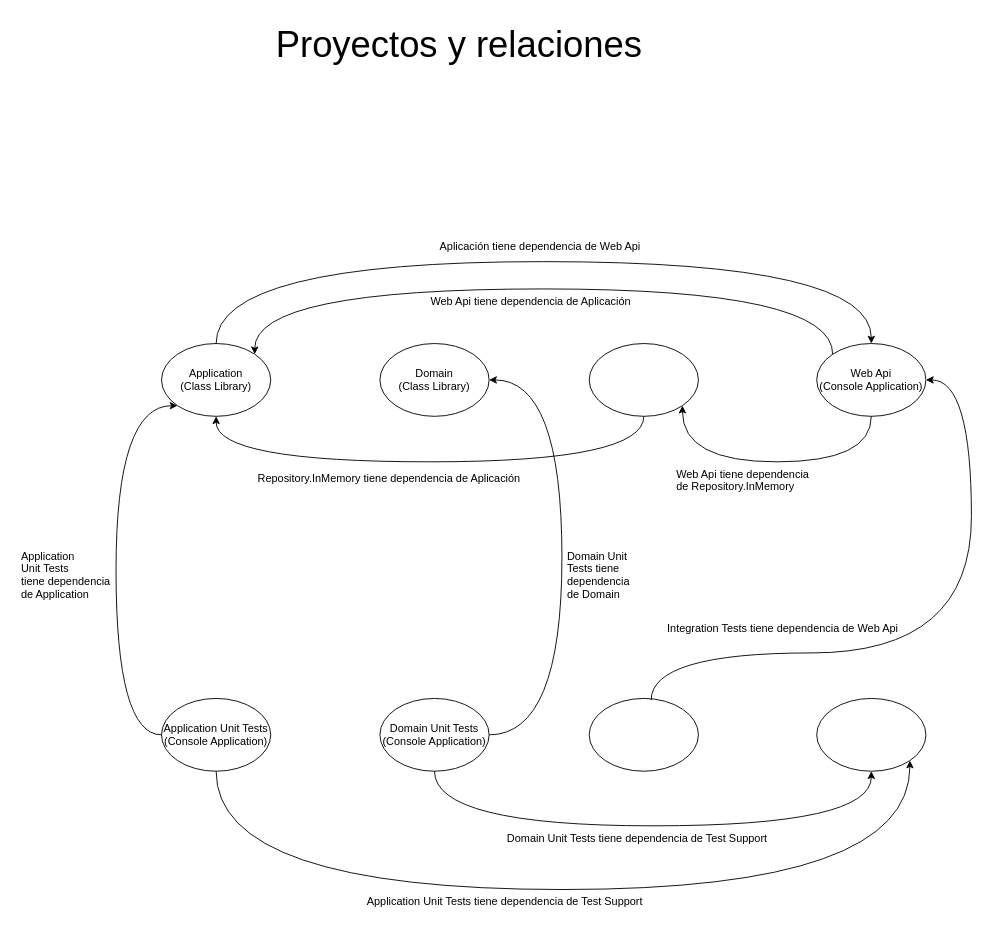
Image size: 987x935. Some labels were removed from this diagram. Each missing label, with the box of its shape:
Integration Tests (Console Application): (588, 698, 698, 771)
Repository.InMemory (Class Library): (588, 343, 698, 416)
Test Support (Class Library): (816, 698, 926, 771)
